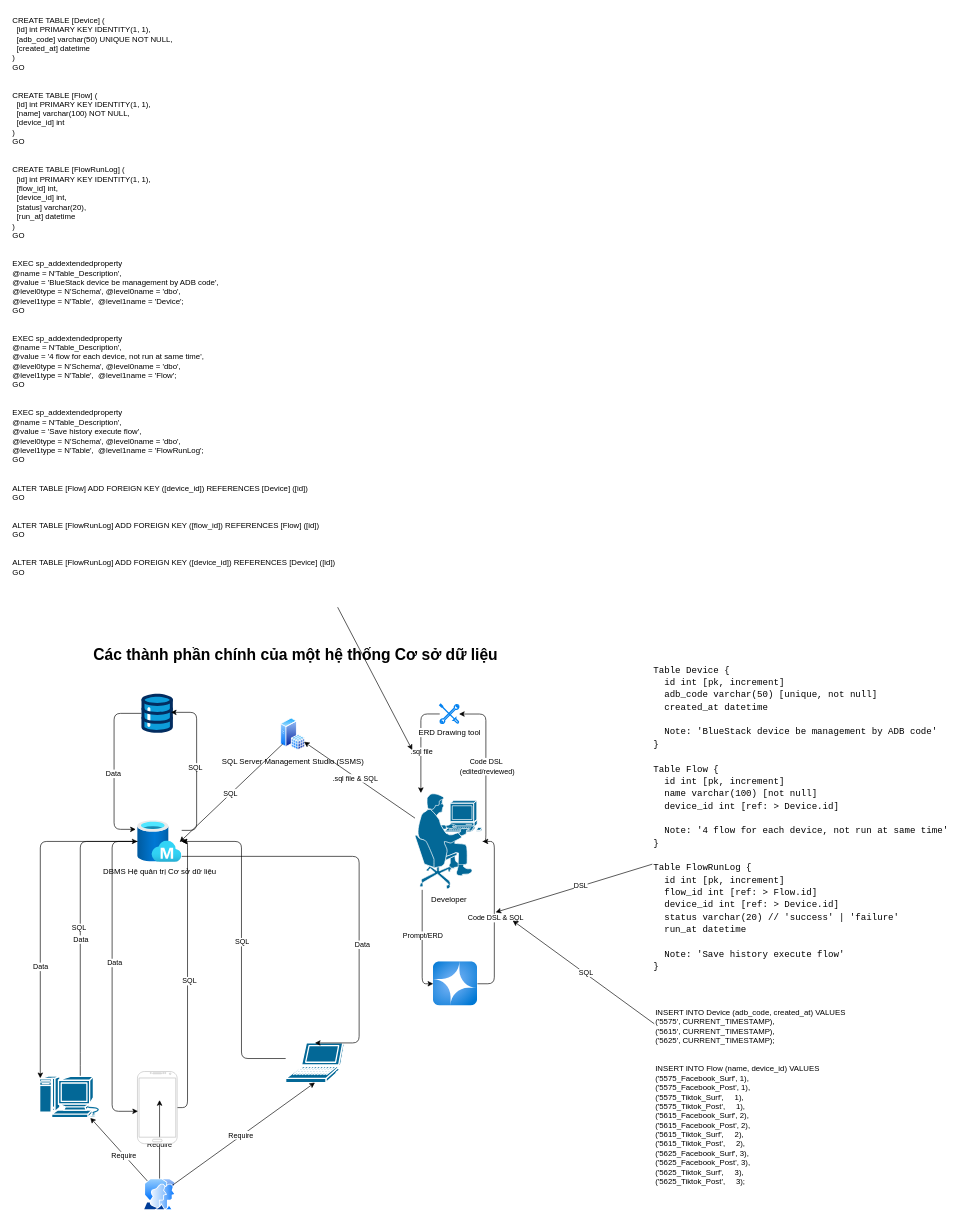
This 959x1221 diagram has some shape labels left out. The shapes that lost their labels are listed below. From the top down, each one's centre as x and y in pixels, then its label:
At pixel 157 713: "Dữ liệu (Data)".
At pixel 455 983: "AI".
